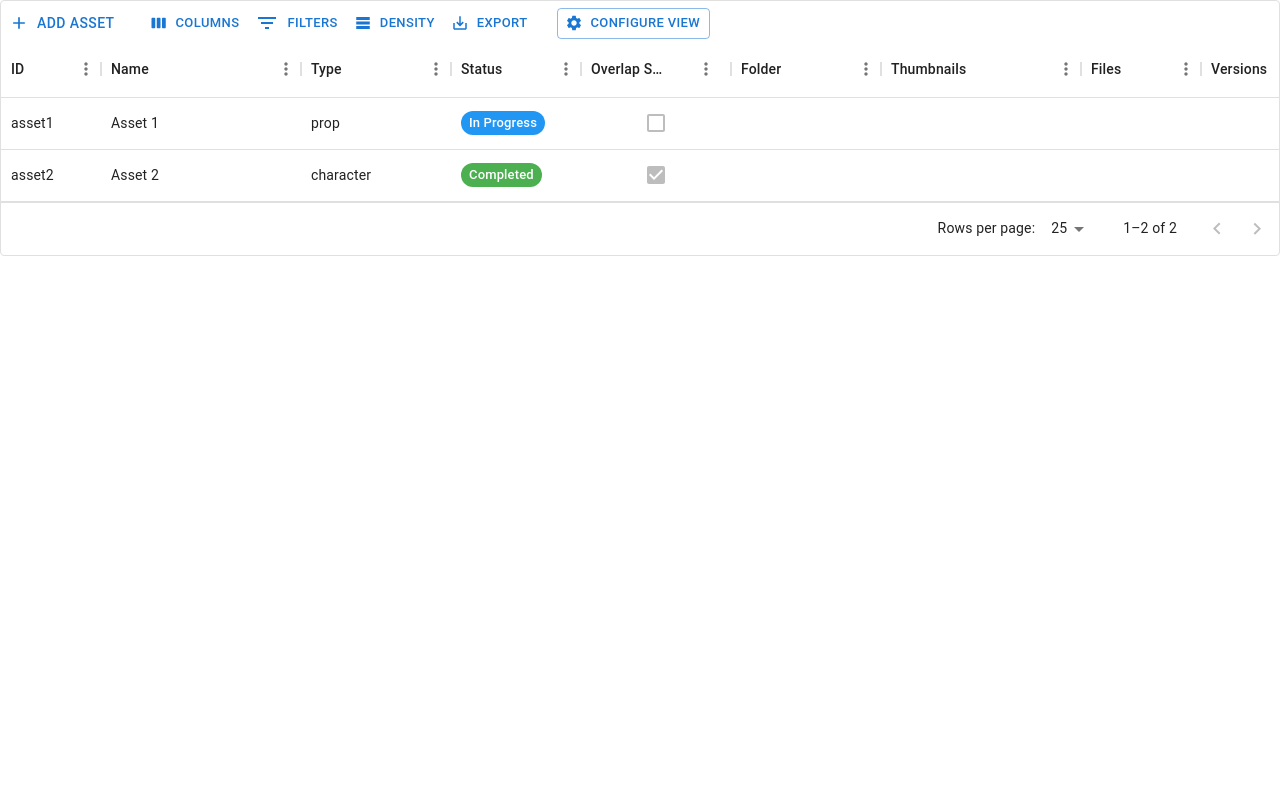
it: AssetTable › opens and closes the add asset dialog
The image size is (1280, 800).
Click the button "Add Asset" at (64, 23), box [5, 5, 122, 42]
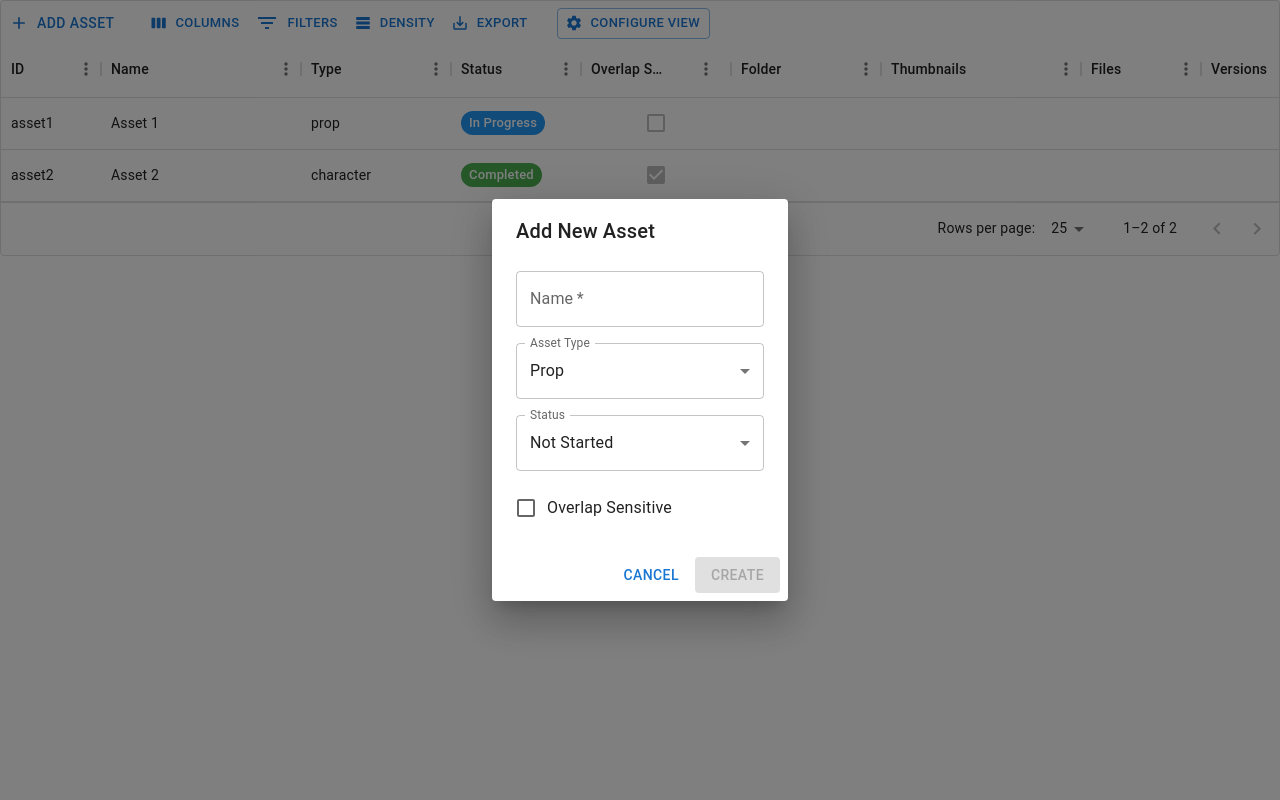
Expected: the heading "Add New Asset" is shown, [516, 219, 655, 243]
Click the button "Cancel" at (651, 575), box [615, 557, 687, 593]
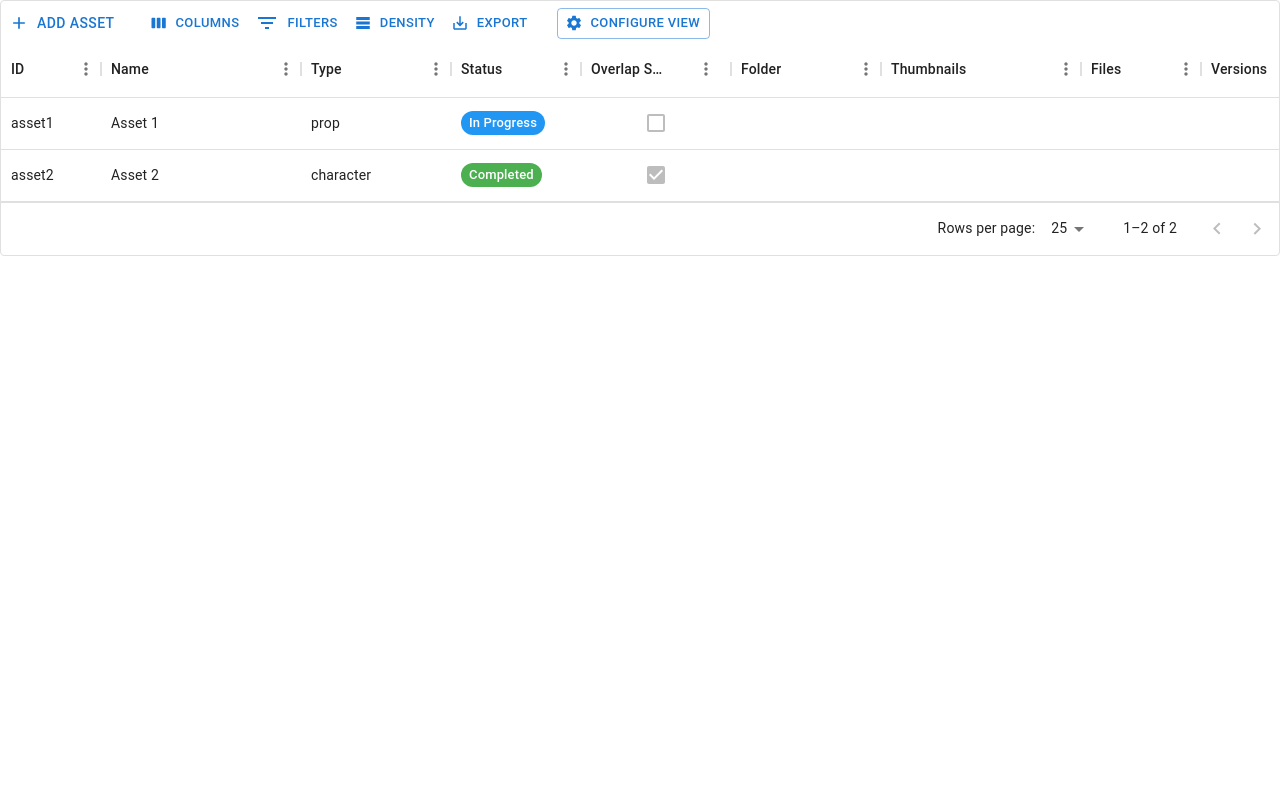
Expected: the heading "Add New Asset" is gone
